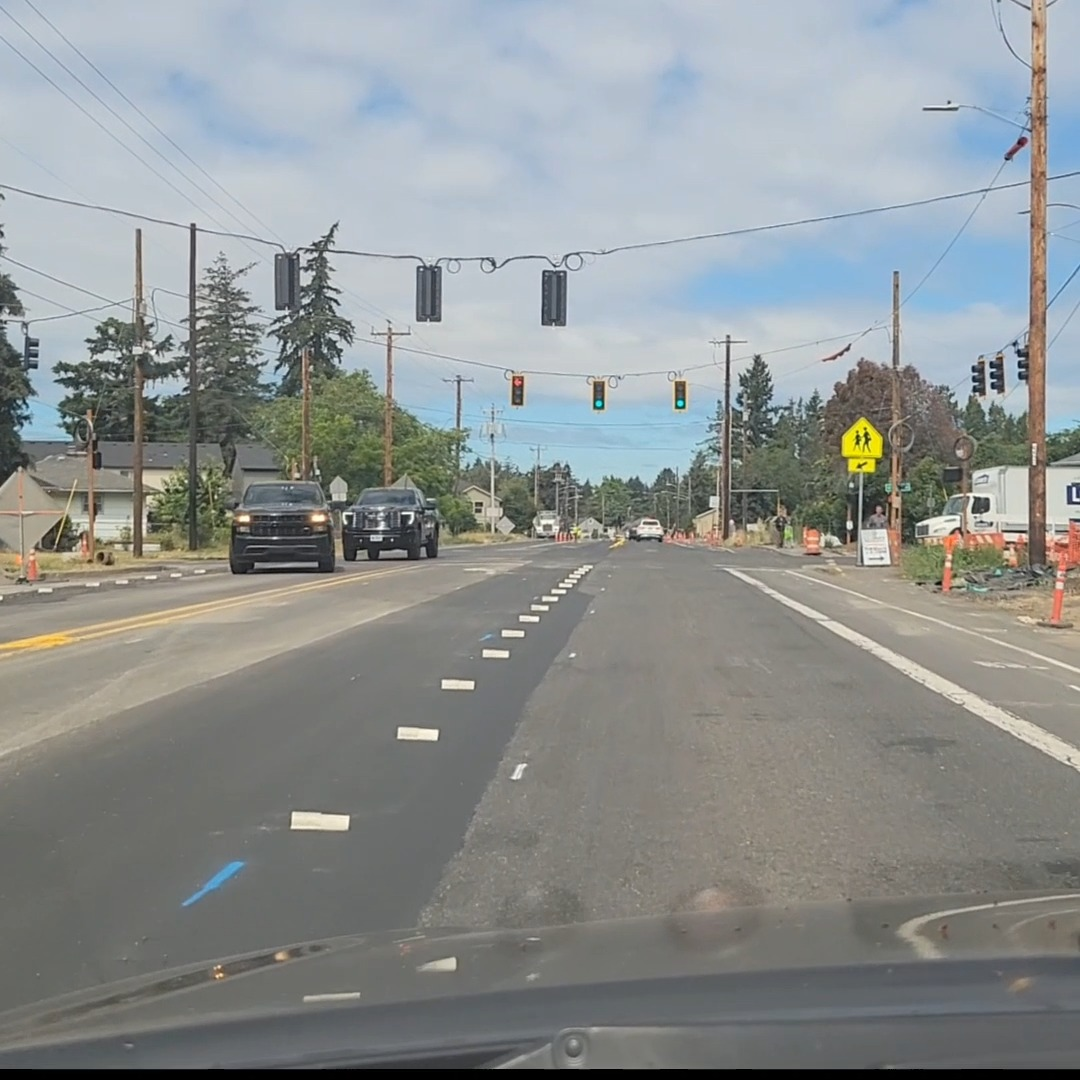car: (225, 480, 338, 577), (340, 486, 441, 561), (626, 517, 664, 542)
crosswalk-sign: (840, 416, 883, 465)
delineator: (940, 535, 957, 592), (26, 551, 38, 580), (78, 530, 90, 559)
